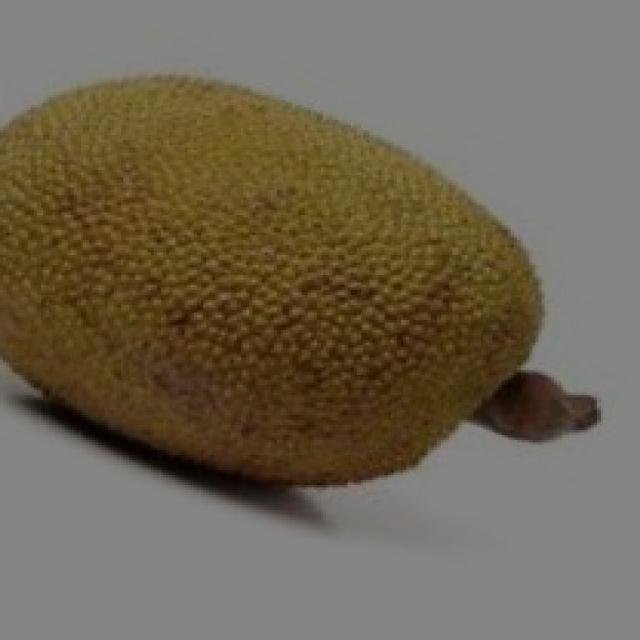Fruit: (0, 42, 406, 448), (224, 48, 578, 492)
